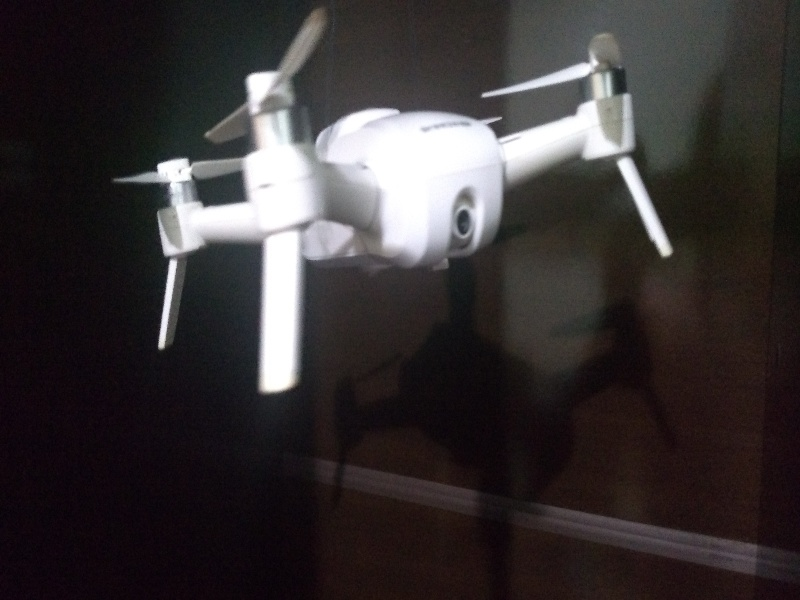drone: (121, 27, 684, 393)
